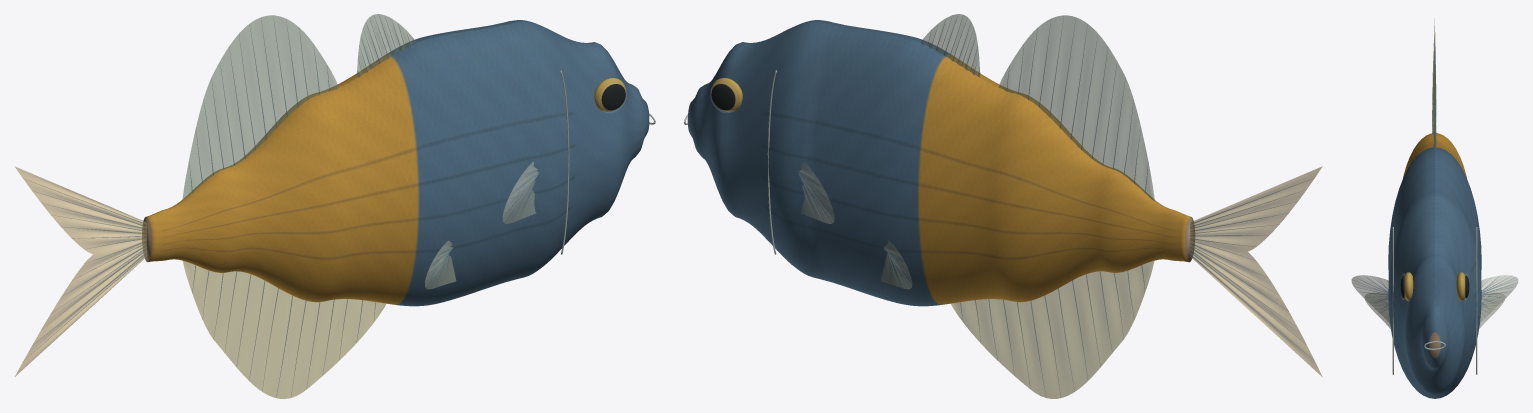
Rendered from rainbow-desktop.glb.
The picture shows the model from 3 angles, left to right: view 1: azimuth 30°, elevation 25°; view 2: azimuth 150°, elevation 25°; view 3: azimuth 270°, elevation 25°; orthographic projection. The views are drawn at different scales.
Visible parts, largest first — view 1: skin, dorsal, anal, tail, dorsal-ray, pectoral-left, pelvic-left; view 2: skin, dorsal, anal, tail, dorsal-ray, pectoral-left, pelvic-left; view 3: skin, pectoral-left, pelvic-left, dorsal-ray, operculum, eye-iris--1, dorsal, tail, eye-pupil--1.
Part boxes in pixels (x1,y1,x2,y2): skin: (142,20,649,306); dorsal: (182,14,416,200); anal: (183,261,385,398); tail: (15,166,146,376); dorsal-ray: (24,15,538,394); pectoral-left: (502,162,538,223); pelvic-left: (425,240,456,289); skin: (687,20,1194,306); dorsal: (920,14,1154,201); anal: (951,261,1154,398); tail: (1190,166,1322,376); dorsal-ray: (798,15,1311,397); pectoral-left: (798,162,834,223); pelvic-left: (881,240,912,289); skin: (1388,133,1481,398); pectoral-left: (1351,275,1518,323); pelvic-left: (1365,293,1504,328); dorsal-ray: (1357,39,1513,323); operculum: (1392,227,1477,374); eye-iris--1: (1404,272,1465,301); dorsal: (1434,46,1435,150); tail: (1432,18,1435,132); eye-pupil--1: (1400,275,1469,298).
Bounding box in the file's own units: 0.6032 × 0.3525 × 0.1718.
11 materials, 1 textured.
